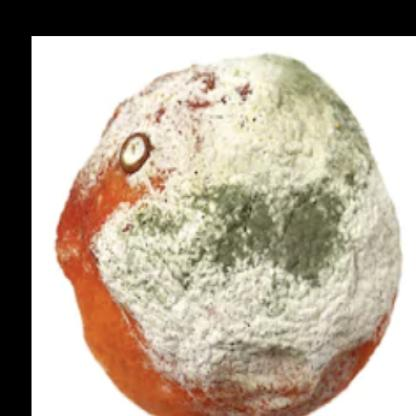rotten: (48, 53, 404, 416)
